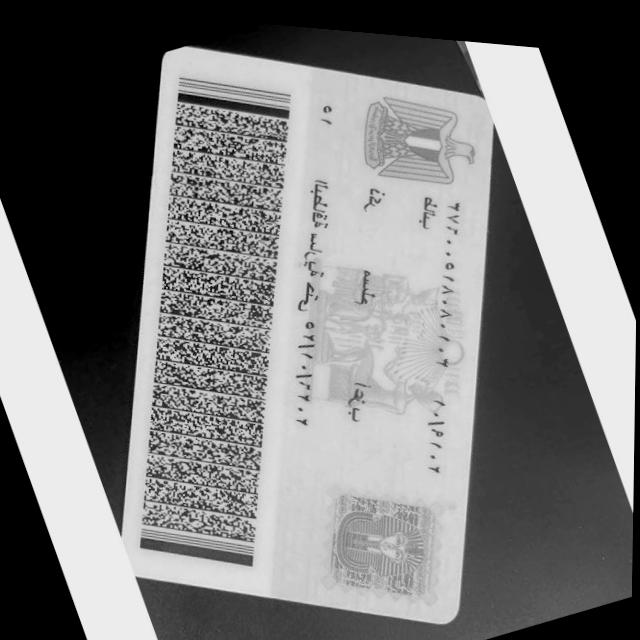id_card: (123, 46, 492, 623)
